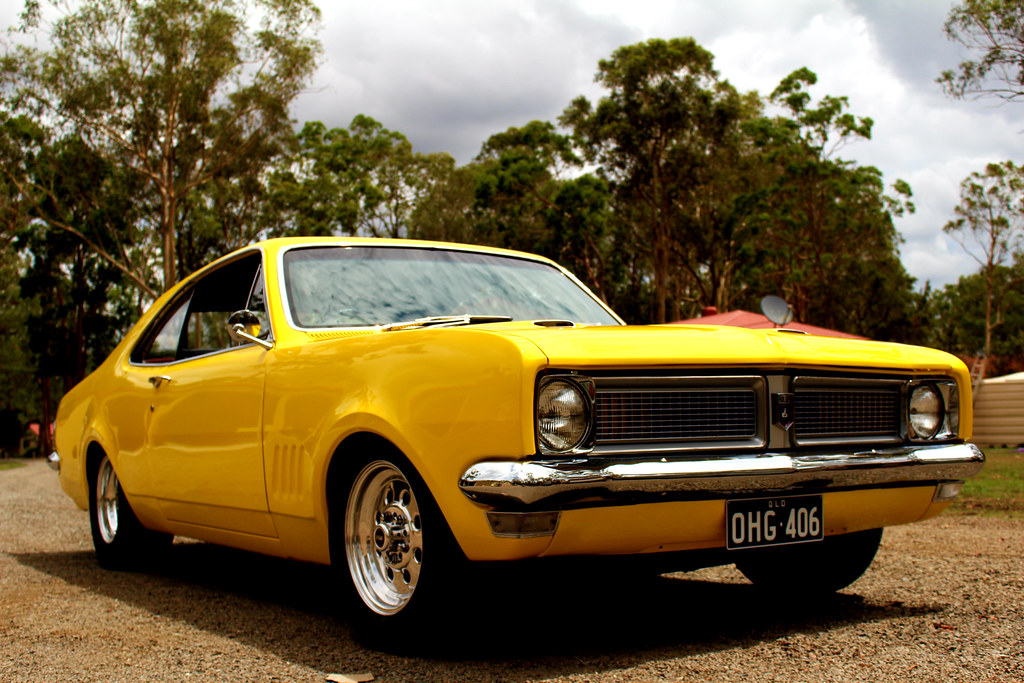car: (33, 156, 995, 630)
